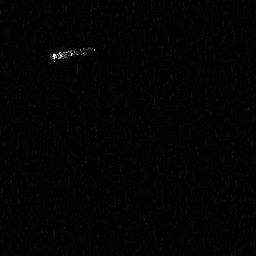ship: (48, 45, 98, 63)
